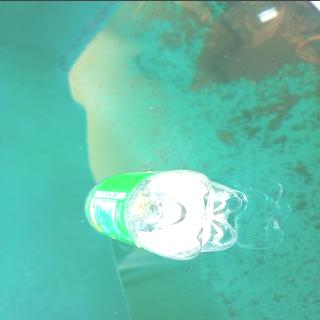bottle: (78, 167, 244, 260)
